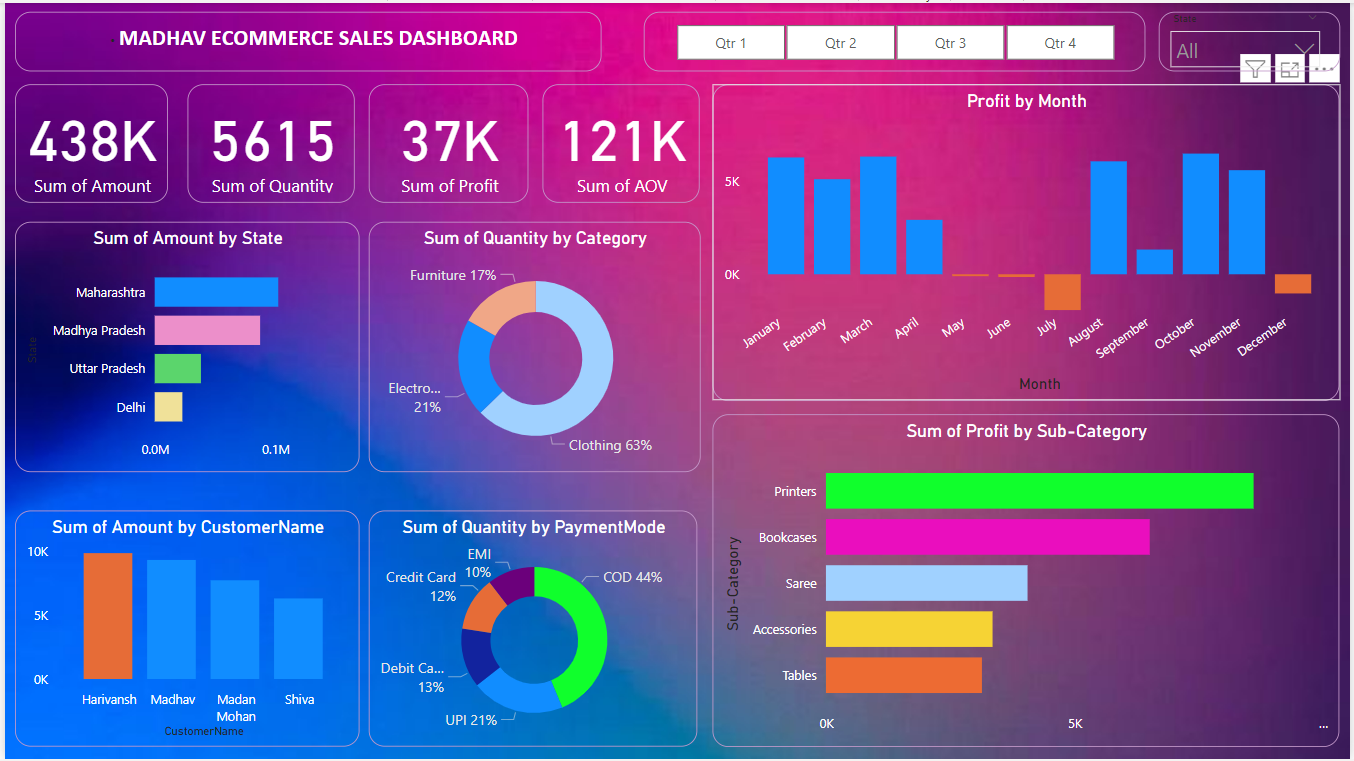

The page's visual inventory and layout, read from the dashboard file:
{"tool":"powerbi","page":{"name":"Page 1","canvas":[1280,720],"ordinal":0},"visuals":[{"type":"textbox","box":[9.6,8.4,558.4,56.7],"z":0},{"type":"columnChart","title":" Profit by Month","fields":{"Y":["Sum(Details.Profit)"],"Category":["Orders.Order Date.Variation.Date Hierarchy.Month"]},"box":[673.8,76.8,596.9,301.9],"z":1000},{"type":"barChart","fields":{"Category":["Details.Sub-Category"],"Y":["Sum(Details.Profit)"]},"box":[673.8,391.1,596.9,317],"z":2000},{"type":"donutChart","fields":{"Y":["Sum(Details.Quantity)"],"Category":["Details.Category"]},"box":[345.8,208.6,315.6,238.8],"z":3000},{"type":"donutChart","fields":{"Y":["Sum(Details.Quantity)"],"Category":["Details.PaymentMode"]},"box":[345.8,483,312.9,225],"z":4000},{"type":"card","fields":{"Values":["Sum(Details.Amount)"]},"box":[9.6,76.8,145.5,112.5],"z":5000},{"type":"card","fields":{"Values":["Sum(Details.Quantity)"]},"box":[174.3,76.8,159.2,112.5],"z":6000},{"type":"card","fields":{"Values":["Sum(Details.Profit)"]},"box":[345.8,76.8,152.3,112.5],"z":7000},{"type":"card","fields":{"Values":["Sum(Details.AOV)"]},"box":[511.8,76.8,149.6,112.5],"z":8000},{"type":"barChart","fields":{"Category":["Orders.State"],"Y":["Sum(Details.Amount)"]},"box":[9.6,208.6,328,238.8],"z":9000},{"type":"columnChart","fields":{"Category":["Orders.CustomerName"],"Y":["Sum(Details.Amount)"]},"box":[9.6,483,328,225],"z":10000},{"type":"slicer","fields":{"Values":["Orders.Order Date.Variation.Date Hierarchy.Quarter"]},"box":[607.8,8.4,477.6,56.7],"z":11000},{"type":"slicer","fields":{"Values":["Orders.State"]},"box":[1098.7,8.4,172.5,56.7],"z":12000}]}

Visuals, with their boxes in screenshot pixels (x1, y1, x2, y2), scaled from the page's 1280x720 canvas onto the 1354x761 screenshot:
textbox: x1=10, y1=9, x2=601, y2=69
" Profit by Month" columnChart: x1=713, y1=81, x2=1344, y2=400
barChart - Details.Sub-Category x Sum(Details.Profit): x1=713, y1=413, x2=1344, y2=748
donutChart - Sum(Details.Quantity) x Details.Category: x1=366, y1=220, x2=700, y2=473
donutChart - Sum(Details.Quantity) x Details.PaymentMode: x1=366, y1=511, x2=697, y2=748
card - Sum(Details.Amount): x1=10, y1=81, x2=164, y2=200
card - Sum(Details.Quantity): x1=184, y1=81, x2=353, y2=200
card - Sum(Details.Profit): x1=366, y1=81, x2=527, y2=200
card - Sum(Details.AOV): x1=541, y1=81, x2=700, y2=200
barChart - Orders.State x Sum(Details.Amount): x1=10, y1=220, x2=357, y2=473
columnChart - Orders.CustomerName x Sum(Details.Amount): x1=10, y1=511, x2=357, y2=748
slicer - Orders.Order Date.Variation.Date Hierarchy.Quarter: x1=643, y1=9, x2=1148, y2=69
slicer - Orders.State: x1=1162, y1=9, x2=1345, y2=69
